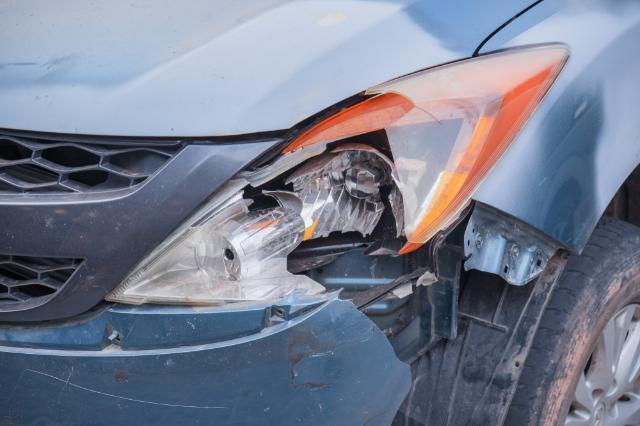lamp broken: (104, 45, 569, 306)
no part: (356, 199, 574, 397)
scratch: (284, 324, 343, 392)
